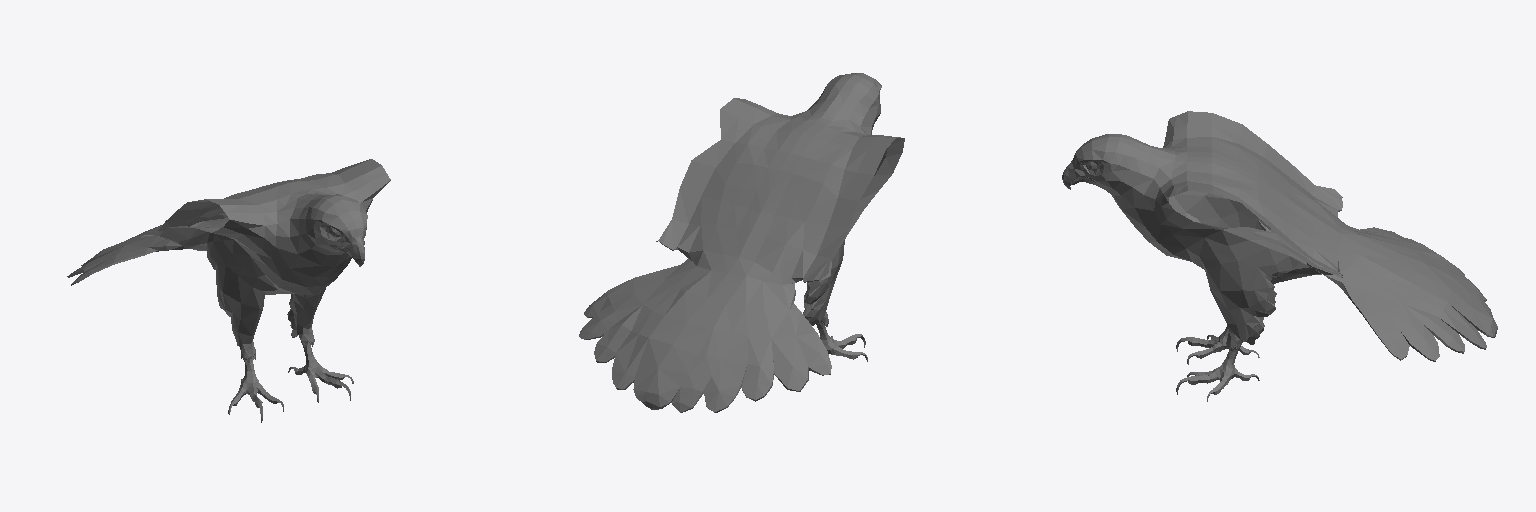
The model's file is Falcon1.obj.
3 views of the same model, side by side, from view 1: azimuth 30°, elevation 25°; view 2: azimuth 150°, elevation 25°; view 3: azimuth 270°, elevation 25° (orthographic).
Parts seen in each view (by area): view 1: Falcon; view 2: Falcon; view 3: Falcon.
Boxes of the visible parts, box(x1,y1,x2,y2) form: Falcon: box(67, 159, 390, 422); Falcon: box(579, 73, 904, 412); Falcon: box(1062, 111, 1497, 401).
Bounding box in the file's own units: 0.9542 × 0.8729 × 1.45.